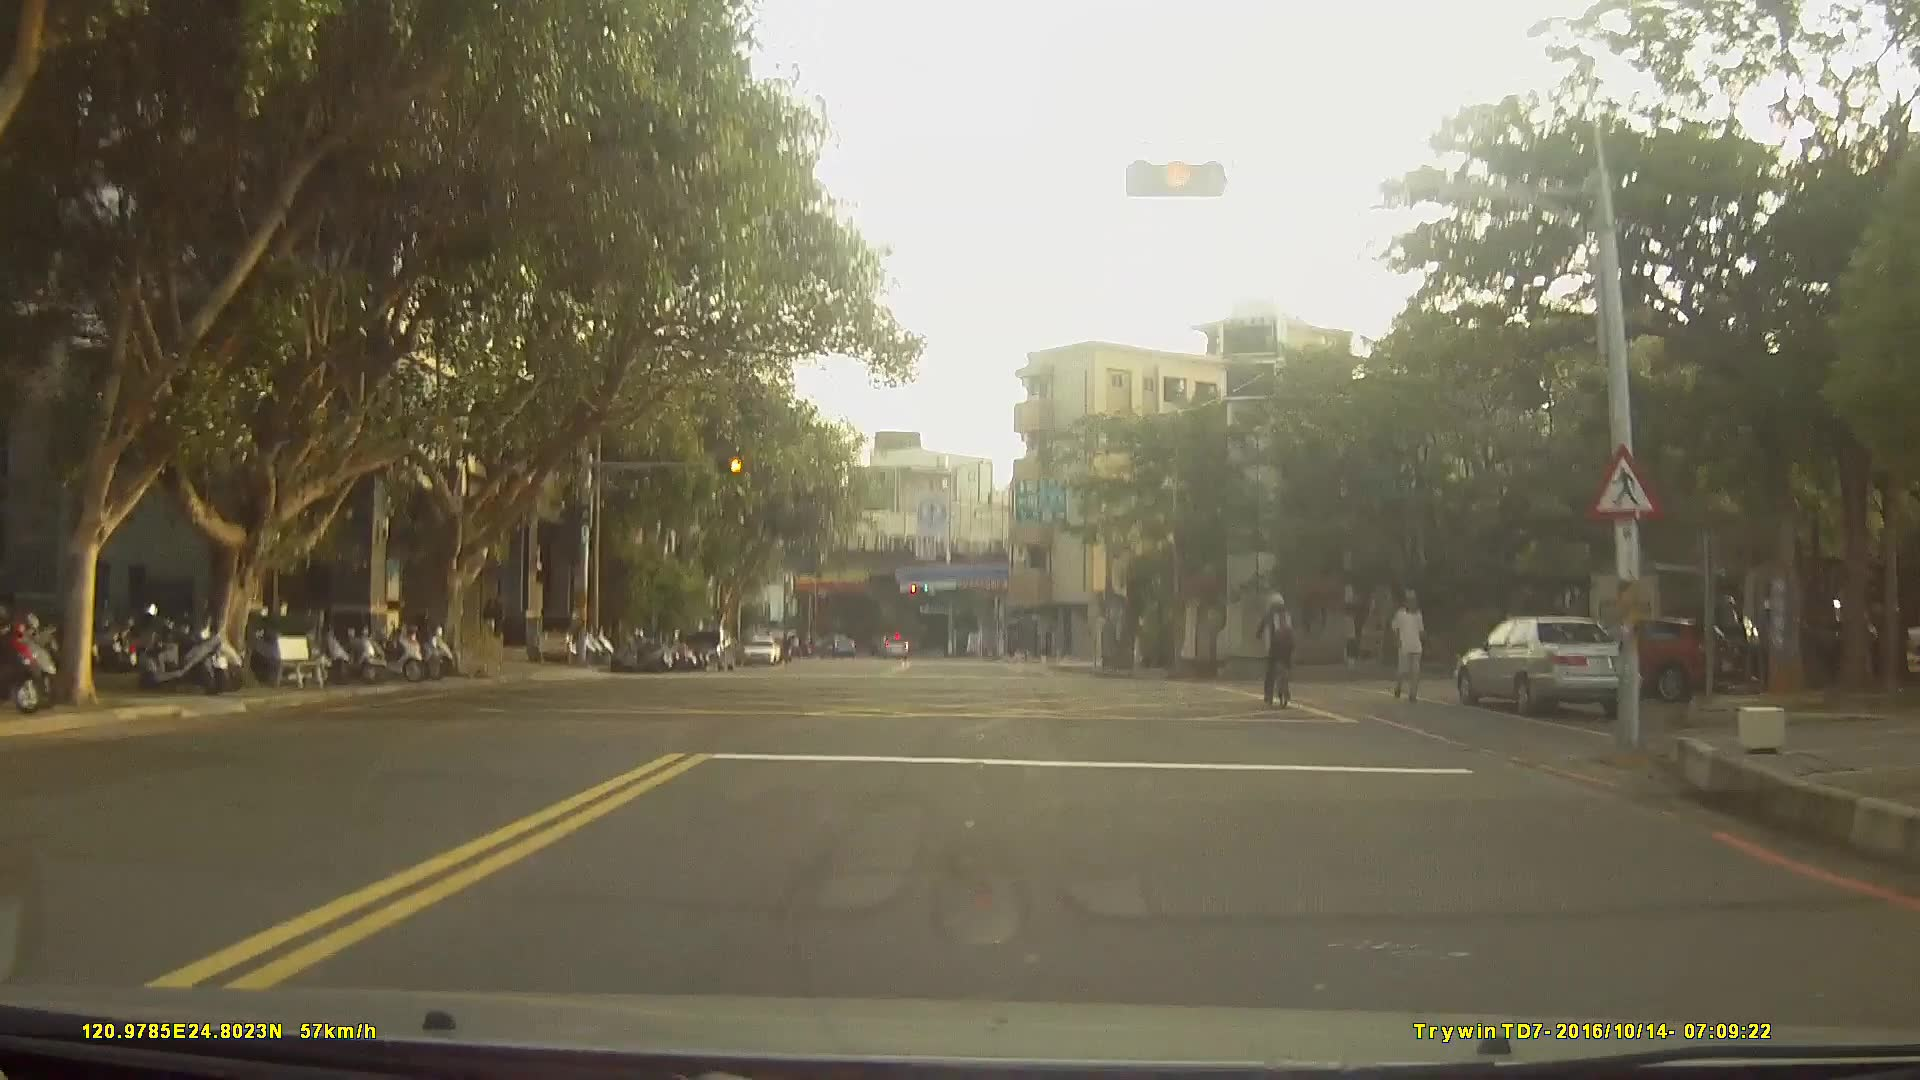pedestrian: (1387, 586, 1436, 696), (481, 597, 501, 647)
rider: (1257, 591, 1304, 703)
vehicle: (1451, 613, 1641, 713), (1576, 613, 1708, 698), (680, 623, 735, 670), (740, 633, 777, 665), (814, 632, 854, 655), (878, 628, 910, 654)
